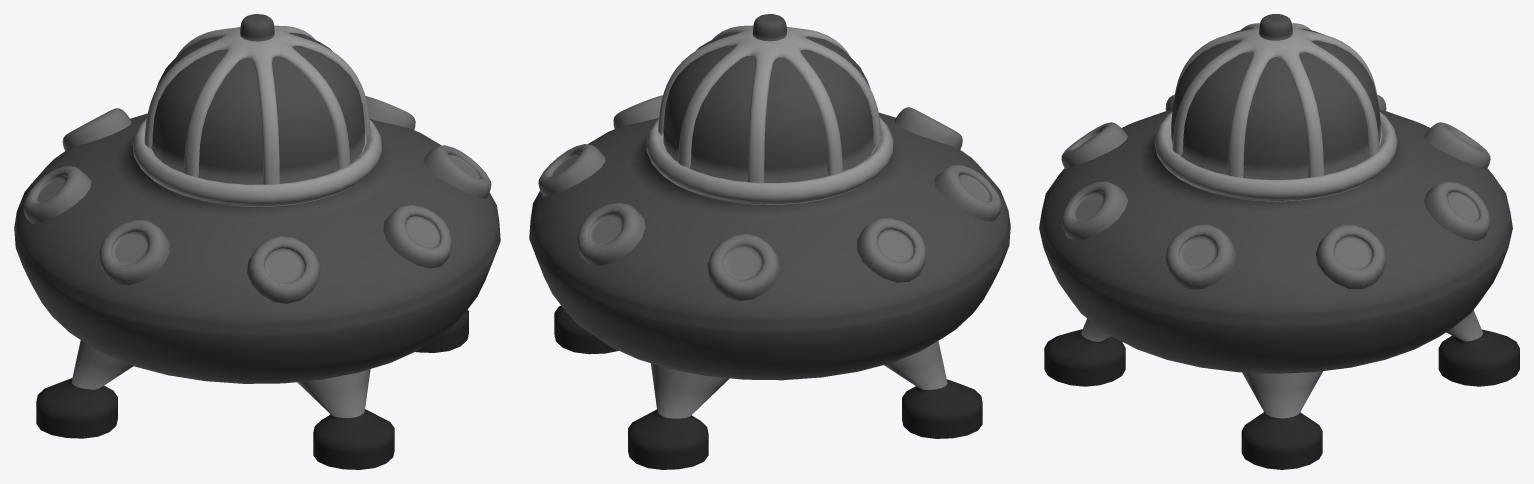
The model's file is PH_mesh_Traps_SwitchingBumper.fbx.
The picture shows the model from 3 angles, left to right: view 1: azimuth 30°, elevation 25°; view 2: azimuth 150°, elevation 25°; view 3: azimuth 270°, elevation 25°; orthographic projection. The views are drawn at different scales.
Visible parts, largest first — view 1: PP_mesh_Trap_SwitchingBumper; view 2: PP_mesh_Trap_SwitchingBumper; view 3: PP_mesh_Trap_SwitchingBumper.
Boxes of the visible parts, <box> form: PP_mesh_Trap_SwitchingBumper: <box>14,14,500,469</box>; PP_mesh_Trap_SwitchingBumper: <box>529,14,1010,469</box>; PP_mesh_Trap_SwitchingBumper: <box>1039,14,1519,469</box>.
Size of the model in its own units: 4.24 by 3.46 by 4.28.
